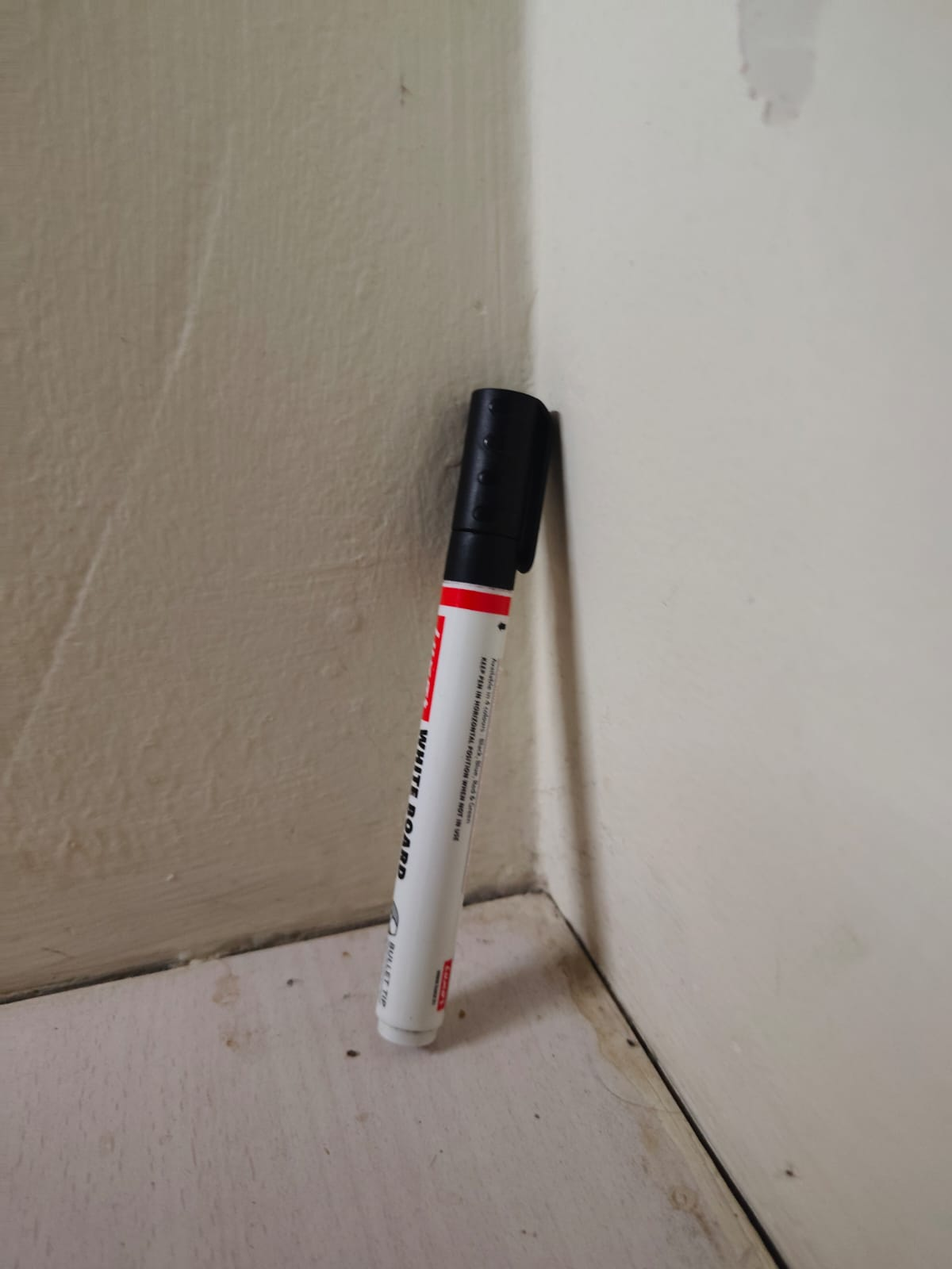case: (343, 342, 589, 1081)
